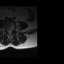CCS_normal: (9, 29, 10, 35)
LFS_severe_stenosis: (12, 28, 13, 31)
LLS_normal: (10, 28, 11, 33)
RFS_severe_stenosis: (6, 28, 7, 33)
RLS_normal: (7, 29, 9, 33)
